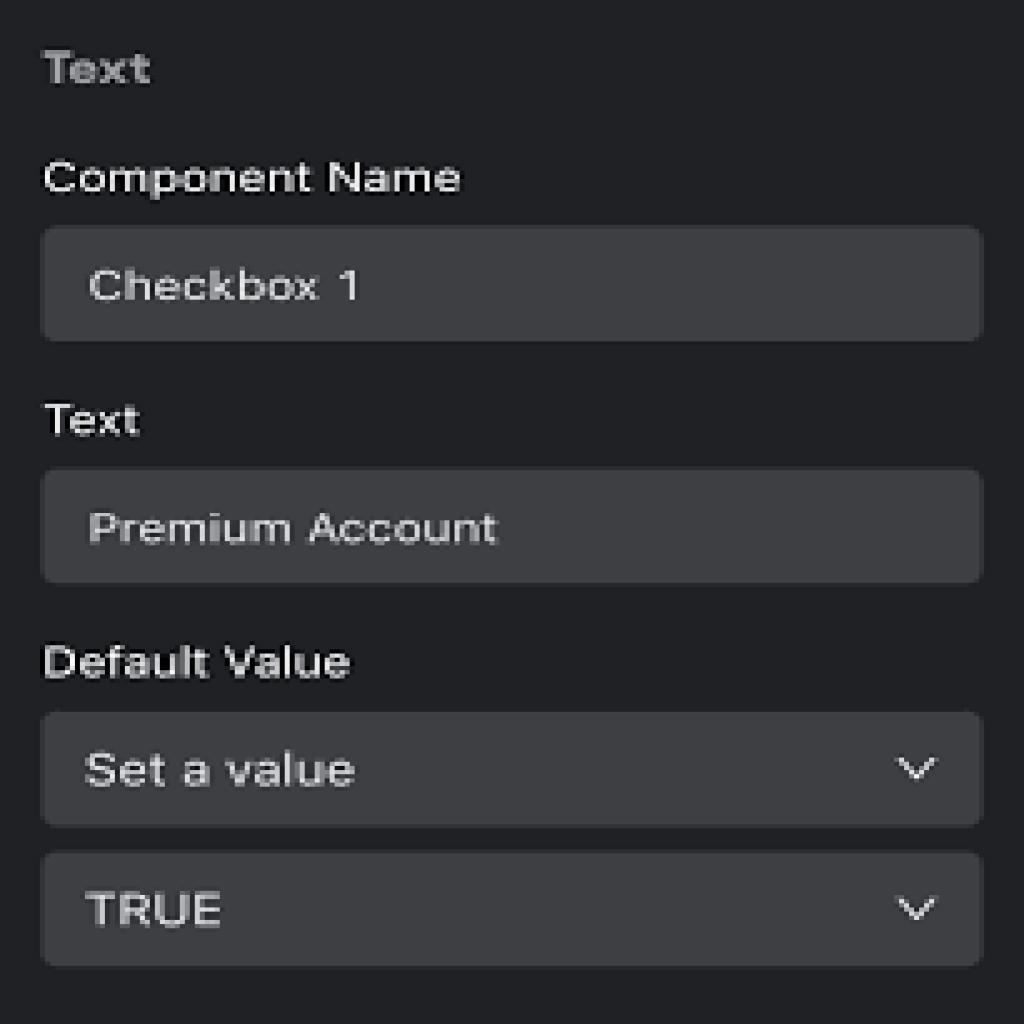dropdown: (41, 711, 983, 828), (43, 854, 984, 967)
input: (41, 227, 984, 342), (45, 470, 987, 584)
label: (35, 154, 469, 205), (44, 641, 356, 688), (38, 47, 159, 93), (41, 400, 151, 446)
